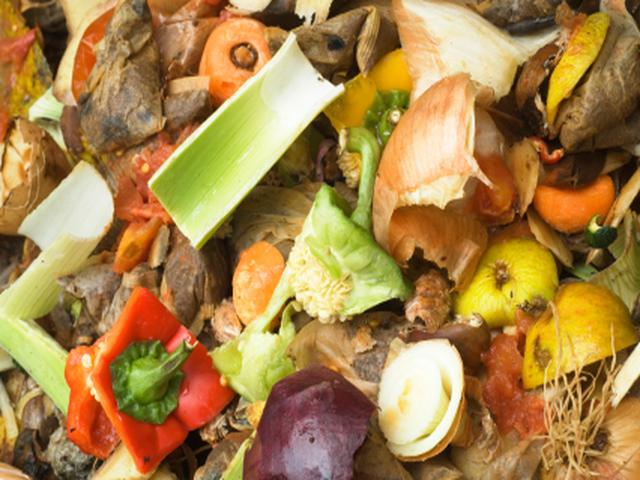garbage: (21, 40, 617, 457)
